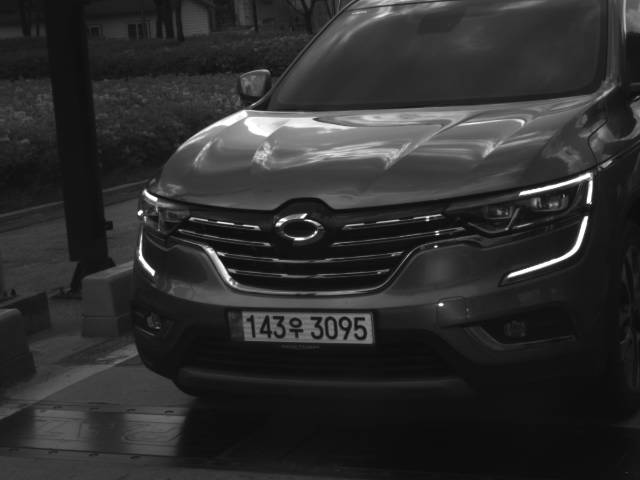car: (128, 1, 638, 416)
plate: (224, 306, 378, 347)
